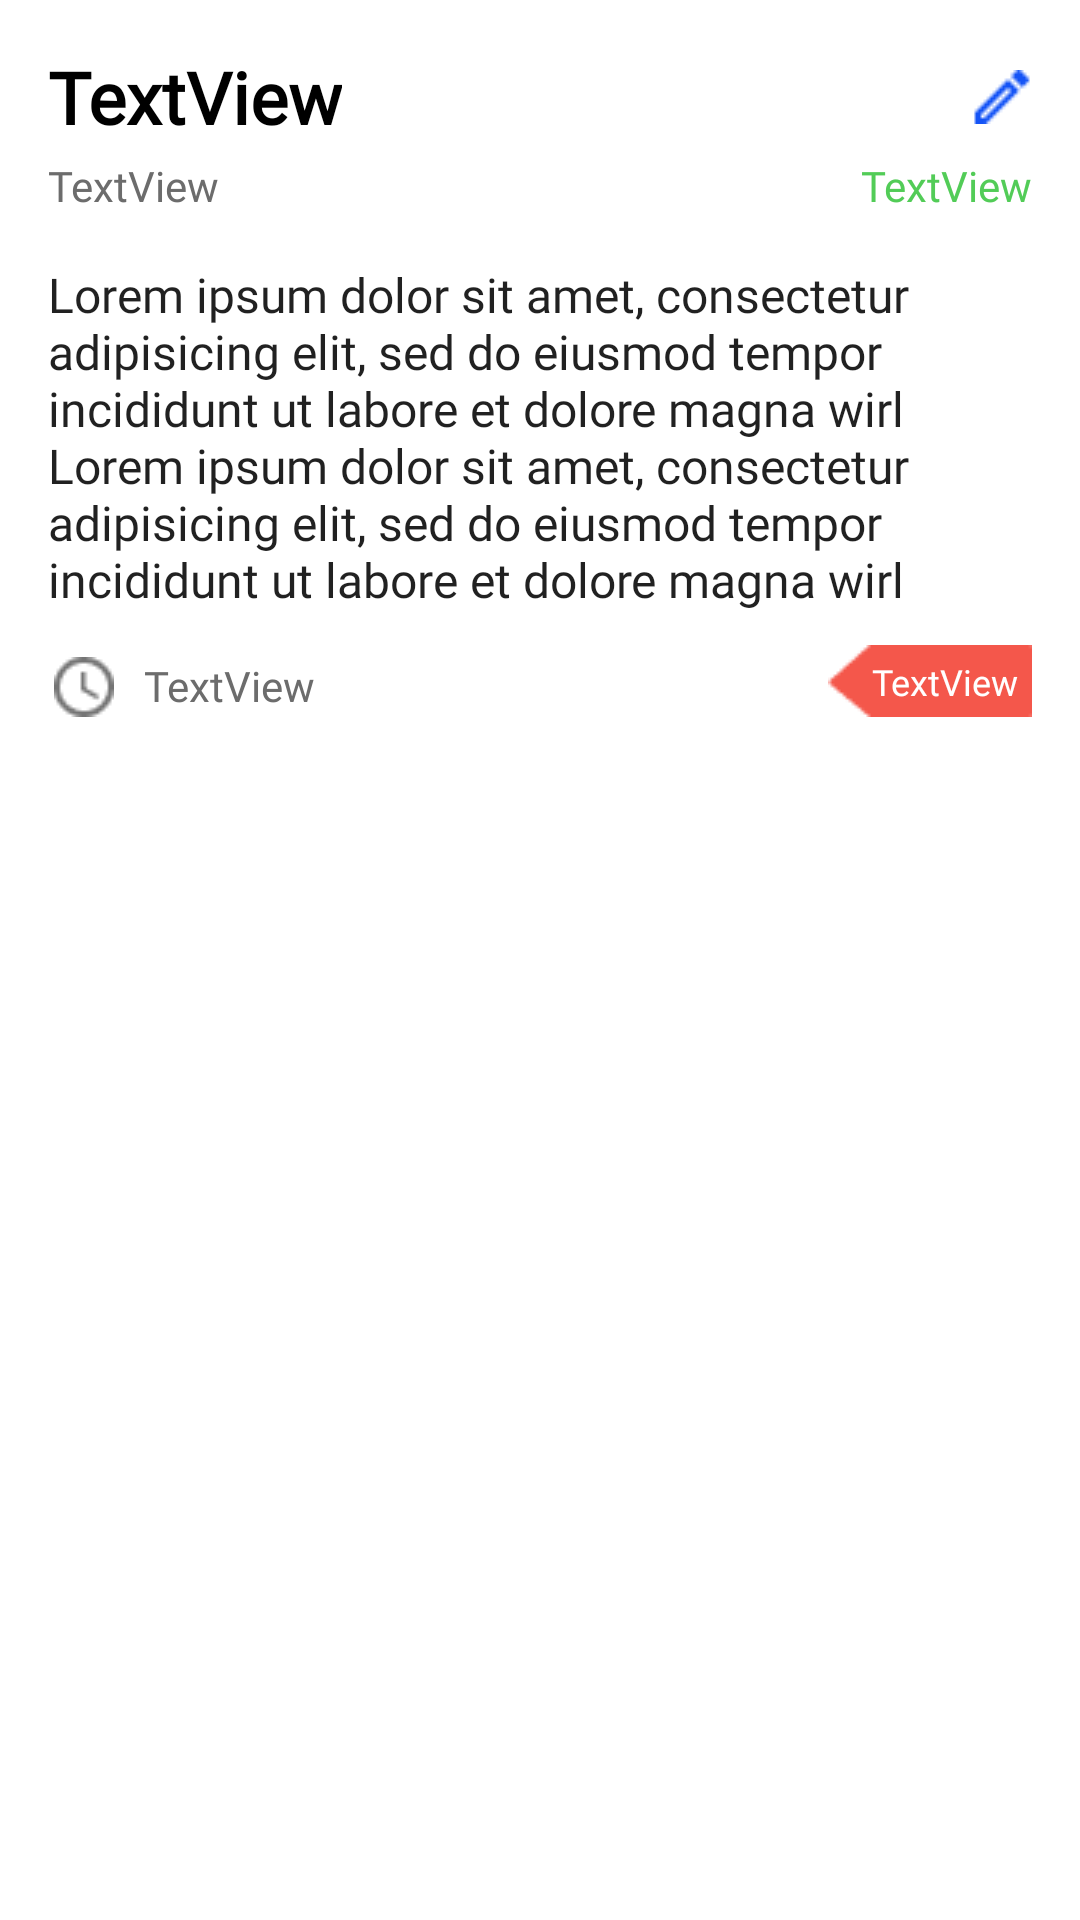

Screen size 1080w x 1920h. Icon name, then its box in pixels as (x1, y1, x2, y2):
edit: (974, 70, 1030, 124)
query builder: (54, 657, 114, 717)
